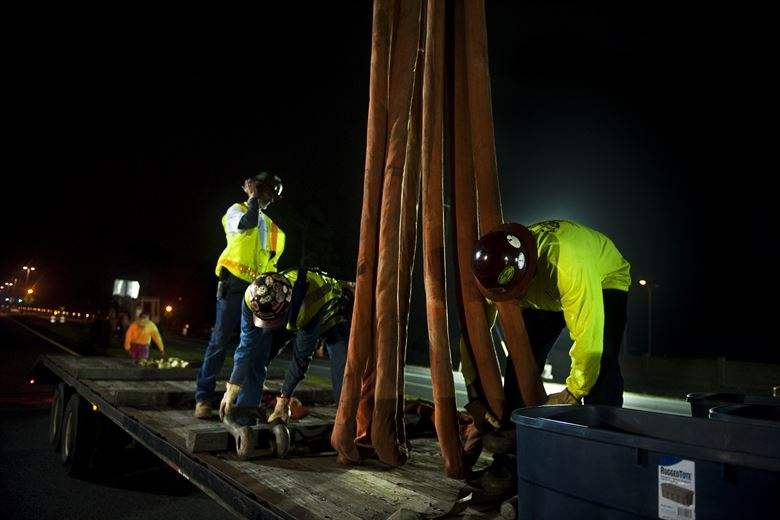red: (469, 224, 539, 302), (244, 273, 296, 330), (248, 169, 284, 207)
